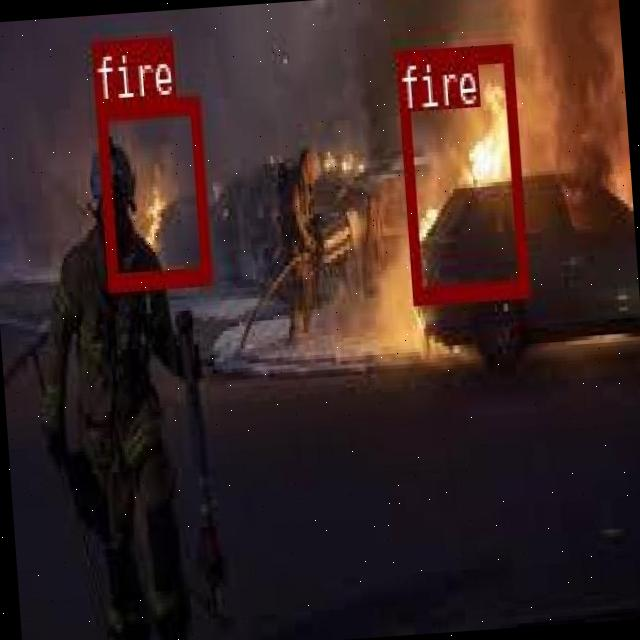fire: (394, 42, 528, 298), (94, 93, 209, 287)
